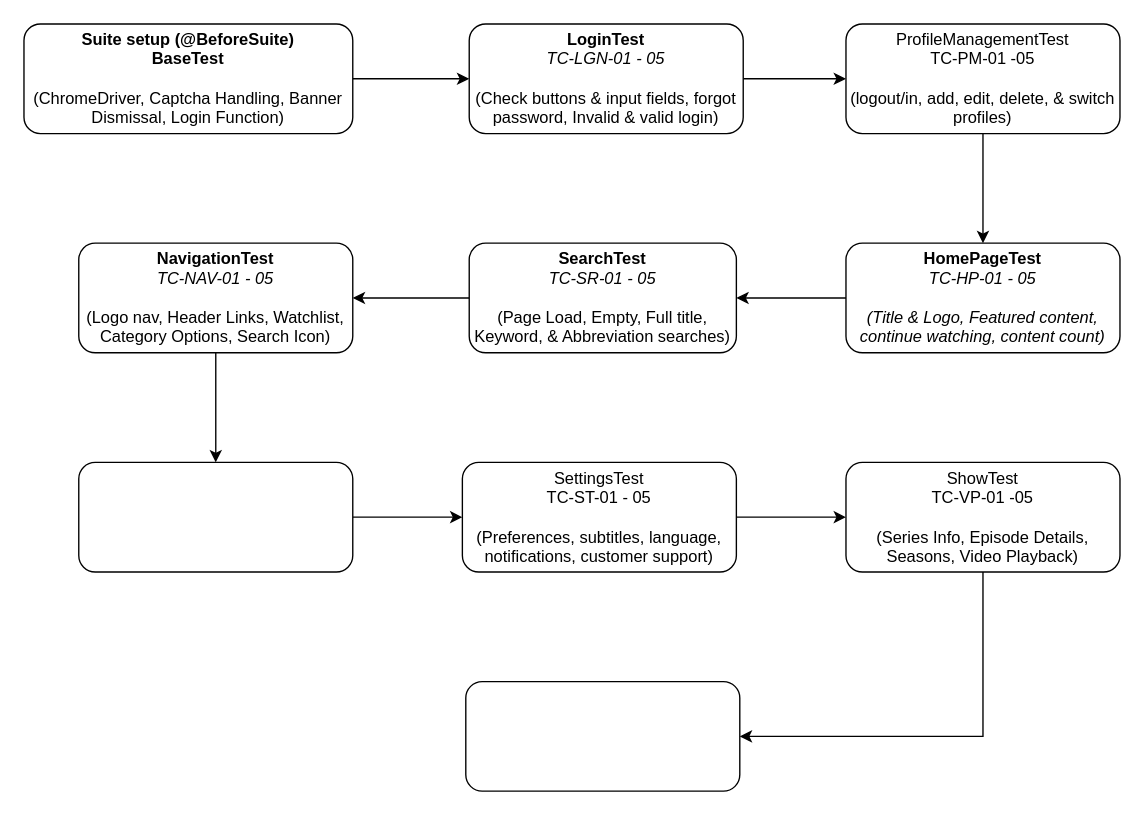
Some shapes in this 1144 by 815 pixel diagram are drawn without their labels. Here are the shapes that lost their labels. From the top down, the centre of each, then its label:
[215,516]: SubServicesTest TC-SS-01 -05 (manga, games, news, store, account transfer
[602,735]: Suite teardown(@AfterSuite) Driver.quit, browser session closed
